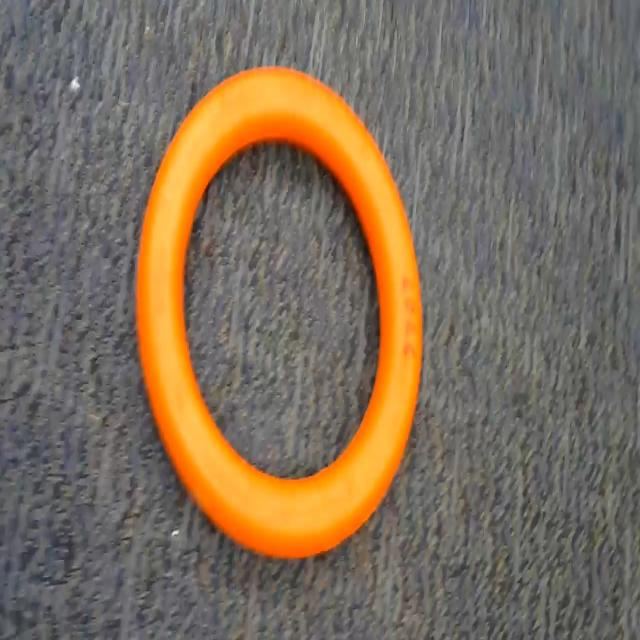note: (132, 58, 434, 570)
